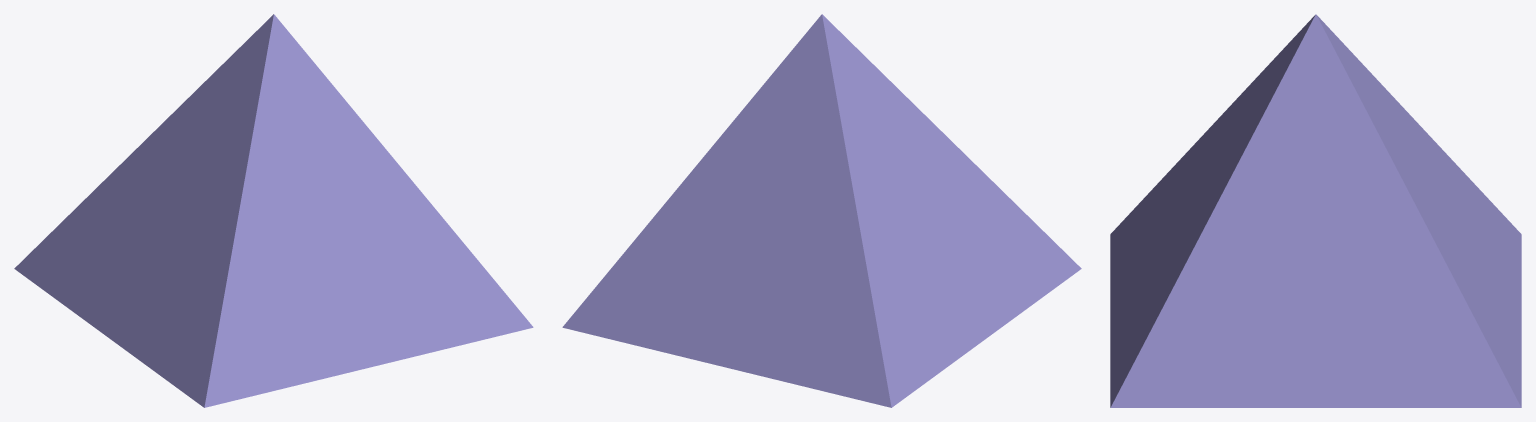
The model's file is liooil-tele-02.dae.
The picture shows the model from 3 angles, left to right: view 1: azimuth 30°, elevation 25°; view 2: azimuth 150°, elevation 25°; view 3: azimuth 270°, elevation 25°; orthographic projection. The views are drawn at different scales.
Parts seen in each view (by area): view 1: Cube; view 2: Cube; view 3: Cube.
Boxes of the visible parts, x1,y1,x2,y2 form: Cube: (14,14,533,407); Cube: (562,14,1081,407); Cube: (1110,14,1521,407).
Size of the model in its own units: 2 by 2 by 1.65.
